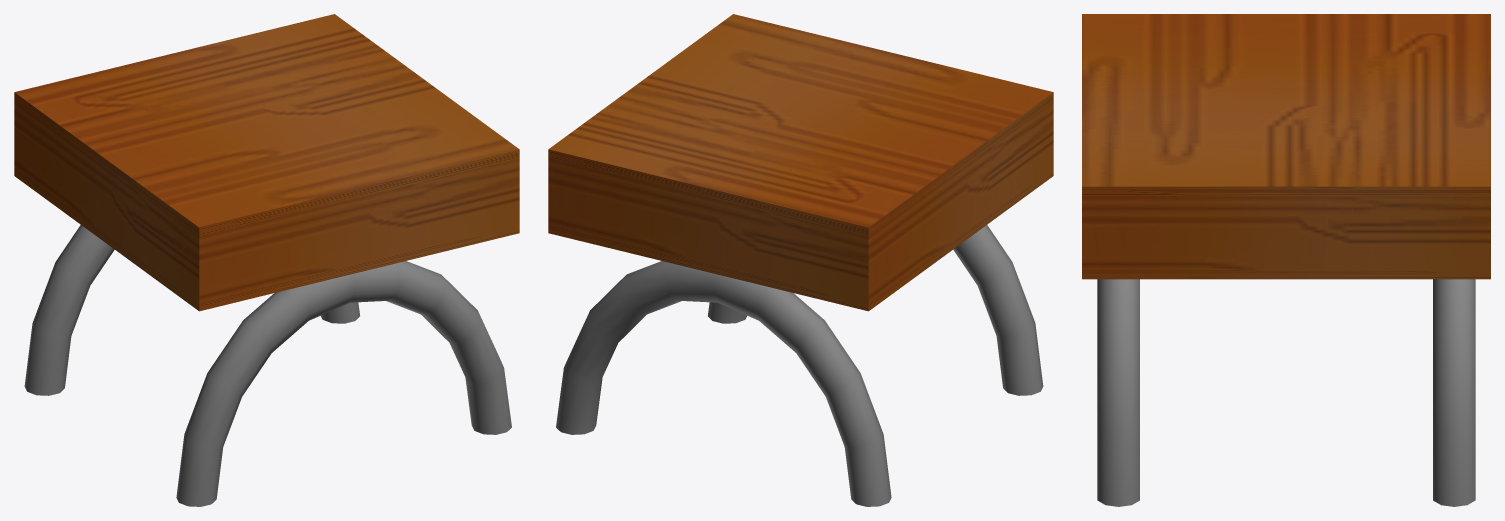
File: desk.FBX
3 renders of one model, left to right at view 1: azimuth 30°, elevation 25°; view 2: azimuth 150°, elevation 25°; view 3: azimuth 270°, elevation 25°, orthographic. The views are drawn at different scales.
Parts seen in each view (by area): view 1: Box001, Cylinder001, Cylinder002; view 2: Box001, Cylinder002, Cylinder001; view 3: Box001, Cylinder002, Cylinder001.
Boxes of the visible parts, box(x1,y1,x2,y2) form: Box001: box(14, 14, 519, 311); Cylinder001: box(176, 261, 511, 506); Cylinder002: box(24, 225, 359, 395); Box001: box(548, 14, 1053, 311); Cylinder002: box(556, 261, 891, 506); Cylinder001: box(708, 225, 1043, 395); Box001: box(1082, 14, 1490, 279); Cylinder002: box(1433, 279, 1475, 506); Cylinder001: box(1097, 279, 1139, 506).
Bounding box in the file's own units: 41.25 × 34.19 × 40.
